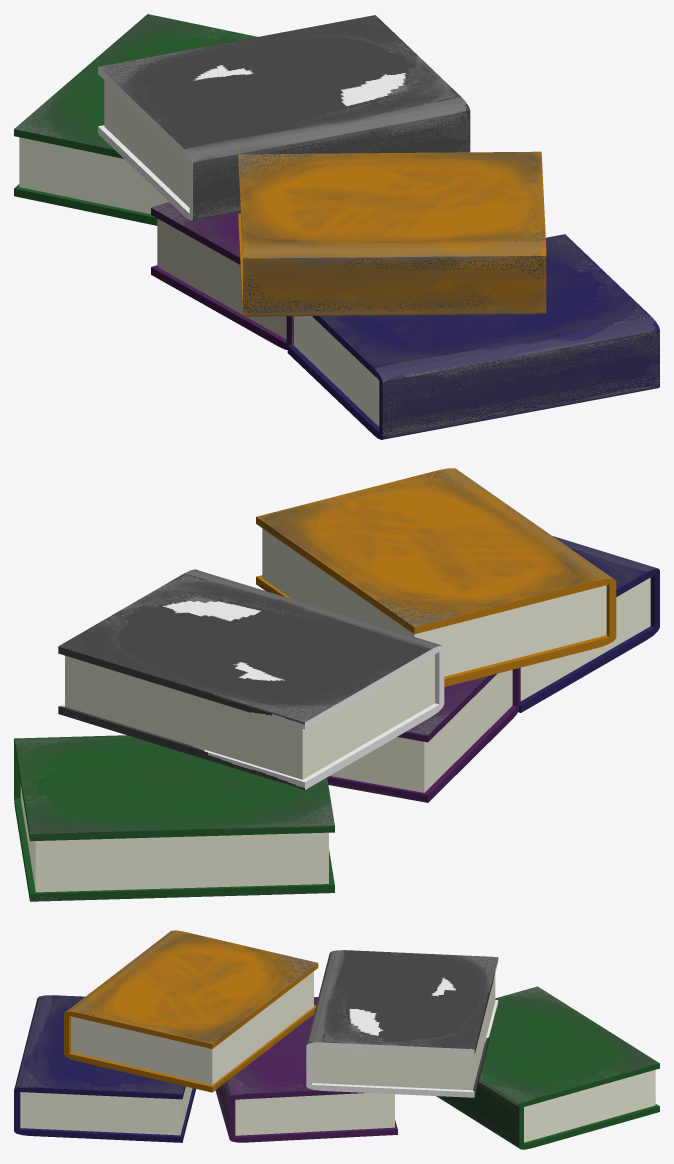
Rendered from Stack-3.fbx.
3 views of the same model, one above another, from view 1: azimuth 30°, elevation 25°; view 2: azimuth 150°, elevation 25°; view 3: azimuth 270°, elevation 25° (orthographic). The views are drawn at different scales.
Parts seen in each view (by area): view 1: Cube.003; view 2: Cube.003; view 3: Cube.003.
Part boxes in pixels (x1=…): Cube.003: x1=14, y1=14, x2=659, y2=439; Cube.003: x1=14, y1=468, x2=659, y2=901; Cube.003: x1=14, y1=930, x2=659, y2=1149.
Bounding box in the file's own units: 22.55 × 8.19 × 48.93.
Materials: 10 (5 with a texture image).
